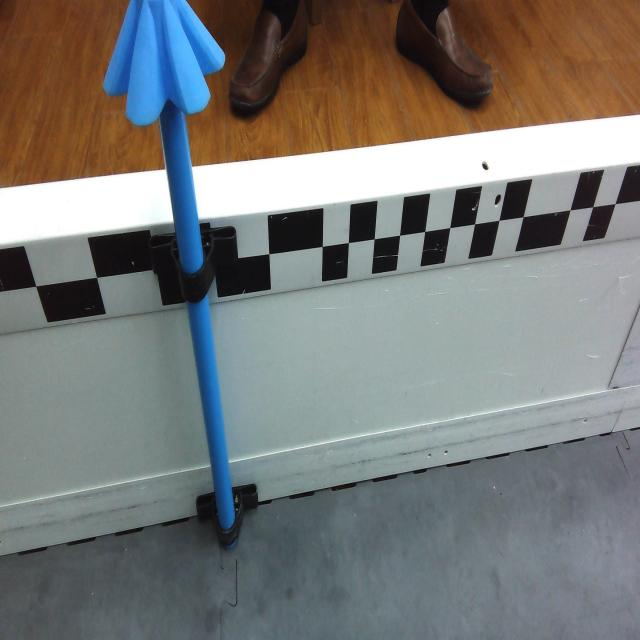zblue-Stake-Head: (102, 0, 226, 129)
